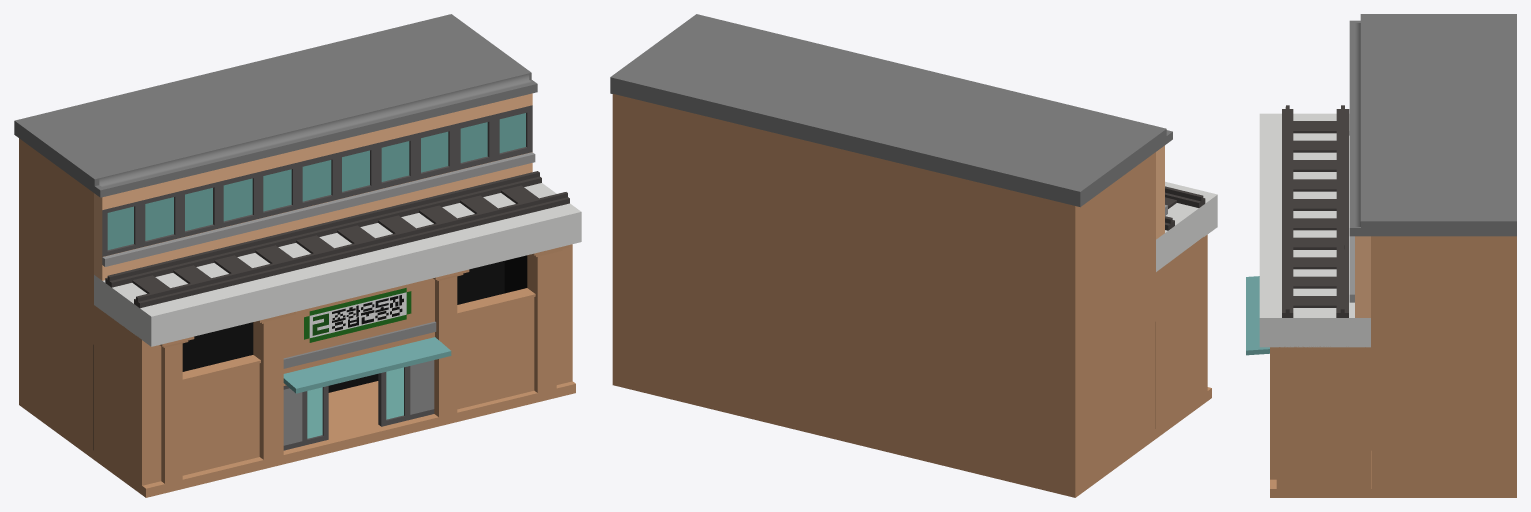
File: 기차지나가는 종합운동장역.fbx
3 renders of one model, left to right at view 1: azimuth 30°, elevation 25°; view 2: azimuth 150°, elevation 25°; view 3: azimuth 270°, elevation 25°, orthographic. The views are drawn at different scales.
Parts seen in each view (by area): view 1: Box001; view 2: Box001; view 3: Box001.
Boxes of the visible parts, x1,y1,x2,y2 form: Box001: [14, 14, 581, 497]; Box001: [610, 14, 1217, 497]; Box001: [1246, 14, 1516, 497].
Size of the model in its own units: 50.81 by 31.73 by 28.05.
Materials: 1 (1 with a texture image).
